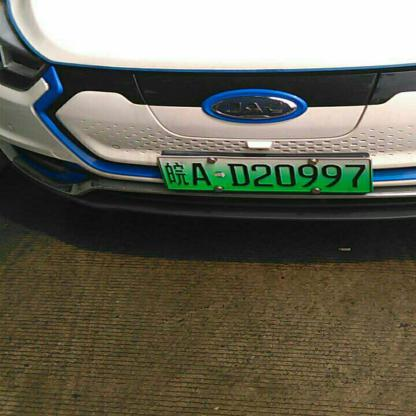lp: (157, 157, 372, 192)
